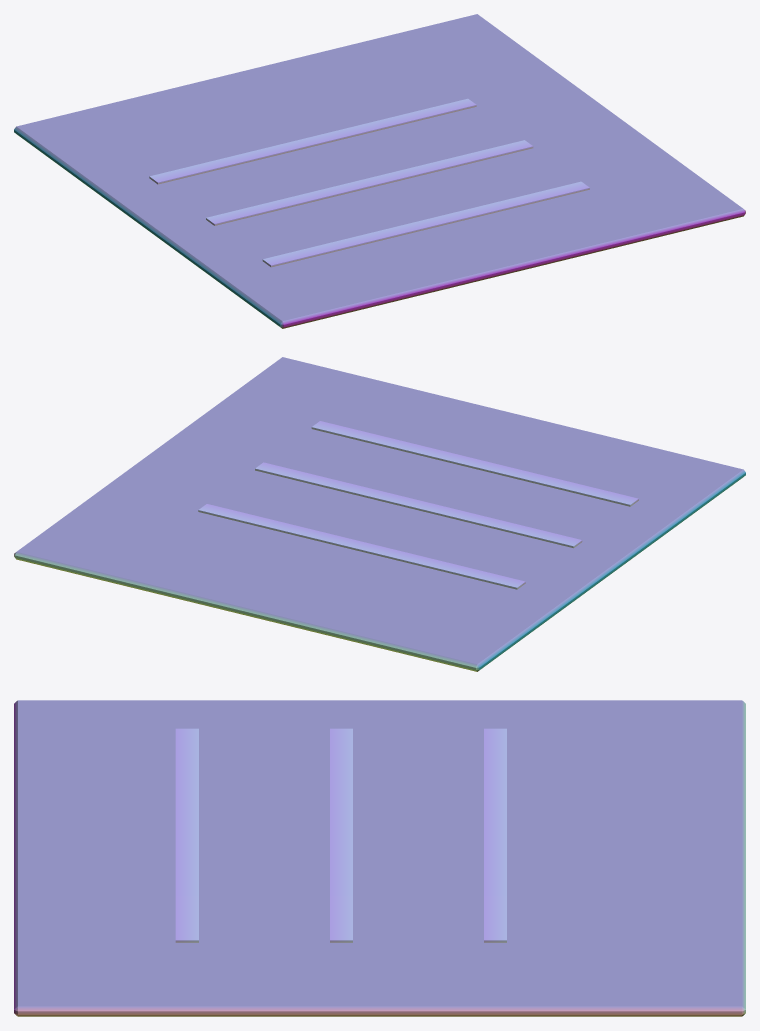
File: env_deco_sticky.glb
The picture shows the model from 3 angles, top to bottom: view 1: azimuth 30°, elevation 25°; view 2: azimuth 150°, elevation 25°; view 3: azimuth 270°, elevation 25°; orthographic projection. The views are drawn at different scales.
Parts seen in each view (by area): view 1: env_deco_sticky_mesh; view 2: env_deco_sticky_mesh; view 3: env_deco_sticky_mesh.
Part boxes in pixels (x1=…): env_deco_sticky_mesh: x1=14, y1=14, x2=745, y2=328; env_deco_sticky_mesh: x1=14, y1=357, x2=745, y2=671; env_deco_sticky_mesh: x1=14, y1=700, x2=745, y2=1016.
Bounding box in the file's own units: 0.38 × 0.0075 × 0.38.
